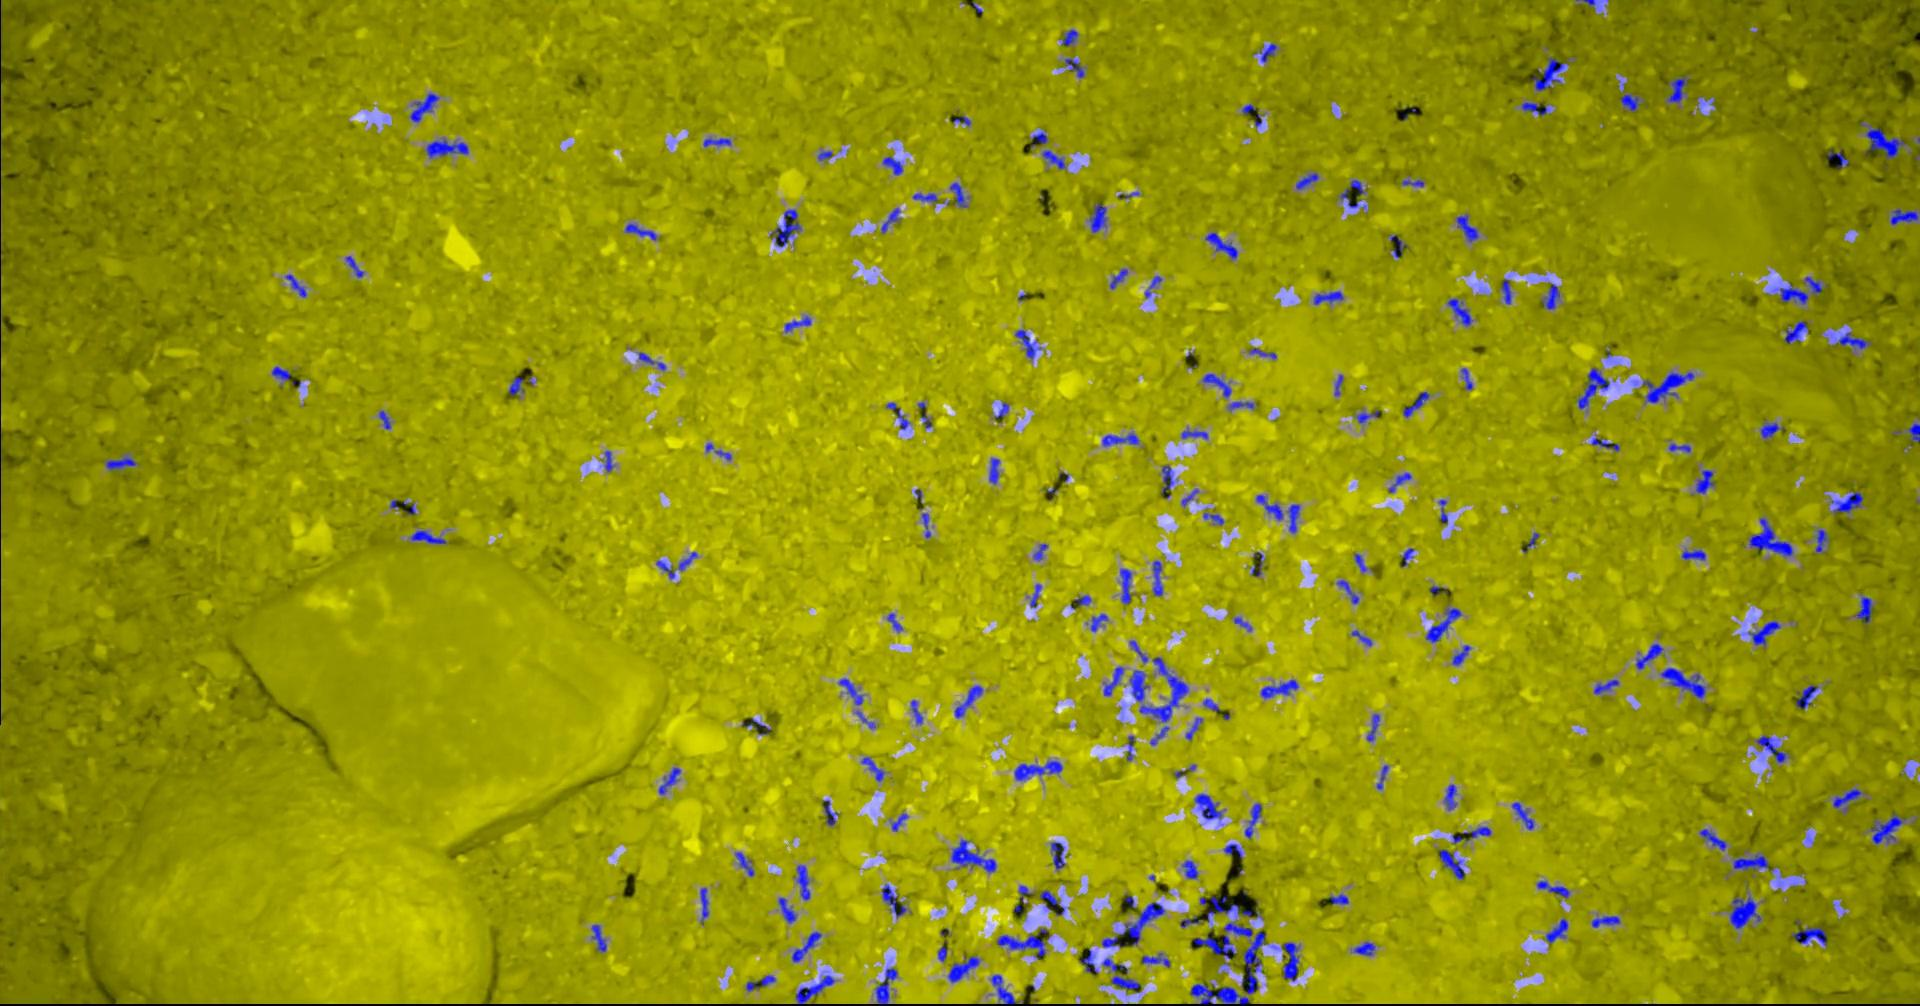ant: (1139, 655, 1189, 744), (1117, 902, 1164, 945), (1749, 517, 1792, 556), (1642, 371, 1694, 401), (997, 927, 1046, 959), (950, 840, 996, 873), (1660, 667, 1705, 699), (1199, 895, 1258, 920), (1102, 956, 1139, 992), (1577, 367, 1609, 408), (1425, 608, 1460, 641), (1865, 127, 1903, 158), (795, 976, 834, 1005), (1531, 57, 1566, 90), (770, 210, 800, 246), (1870, 812, 1905, 843), (1730, 895, 1760, 929), (1015, 760, 1062, 780), (791, 931, 822, 962), (954, 685, 982, 716), (947, 954, 979, 982), (1204, 232, 1237, 259), (410, 91, 438, 122), (1747, 620, 1780, 645), (425, 138, 469, 158), (875, 967, 897, 1005), (1437, 848, 1464, 879), (881, 884, 905, 917), (1756, 735, 1785, 762), (990, 974, 1016, 1005), (1194, 793, 1222, 819), (1015, 329, 1040, 358), (1636, 643, 1662, 669), (1338, 179, 1364, 207), (1255, 494, 1283, 520), (1831, 490, 1863, 512), (1402, 391, 1429, 417), (1260, 680, 1298, 697), (1790, 926, 1826, 945), (1203, 373, 1230, 398), (1775, 283, 1808, 304), (1448, 298, 1472, 325), (886, 401, 909, 429), (1832, 788, 1862, 809), (1281, 942, 1298, 981), (838, 678, 862, 704), (1039, 890, 1064, 915), (658, 767, 681, 794), (1129, 669, 1148, 701), (1511, 801, 1533, 829), (1244, 803, 1261, 838), (860, 757, 884, 781), (1783, 320, 1808, 343), (1699, 828, 1726, 850), (1103, 666, 1123, 695), (1537, 880, 1570, 897), (1667, 75, 1688, 102), (1457, 215, 1477, 241), (1836, 332, 1868, 348), (1733, 854, 1768, 869), (1796, 683, 1817, 708), (1545, 918, 1567, 942), (623, 224, 657, 239), (637, 352, 665, 370), (1102, 432, 1138, 446), (742, 716, 770, 734), (1336, 580, 1357, 603), (949, 182, 968, 207), (1090, 203, 1106, 232), (284, 274, 306, 296), (1041, 150, 1065, 169), (1695, 469, 1714, 493), (734, 852, 753, 876), (881, 207, 899, 232), (1542, 283, 1559, 309), (410, 530, 446, 542), (1119, 568, 1131, 603), (1890, 208, 1919, 224), (745, 976, 775, 991), (783, 315, 810, 332), (1855, 596, 1872, 622), (1388, 234, 1407, 257), (1388, 473, 1411, 492), (796, 865, 809, 899), (590, 923, 606, 951), (822, 800, 838, 826), (778, 897, 795, 922), (1255, 43, 1276, 62), (1451, 644, 1470, 666), (105, 456, 135, 470), (1140, 953, 1170, 967), (1295, 171, 1318, 189), (1804, 276, 1827, 293), (1760, 422, 1784, 438), (1185, 716, 1201, 741), (1591, 437, 1619, 451), (1064, 58, 1084, 77), (1109, 268, 1128, 288), (1313, 291, 1343, 304), (1086, 614, 1107, 631), (1129, 640, 1147, 662), (1079, 949, 1096, 972), (698, 887, 709, 923), (1050, 841, 1064, 868), (1161, 465, 1173, 494), (883, 156, 902, 175), (1827, 149, 1848, 166), (345, 257, 363, 277), (1152, 560, 1162, 596), (1144, 276, 1161, 297), (1521, 102, 1547, 116), (917, 401, 931, 427), (1592, 680, 1618, 694), (1366, 713, 1379, 741), (1591, 915, 1619, 927), (678, 551, 696, 570), (655, 560, 674, 578), (1354, 409, 1379, 422), (1444, 784, 1457, 809), (1288, 504, 1299, 532), (1462, 826, 1490, 837), (1352, 941, 1375, 955), (1619, 94, 1638, 111), (1351, 630, 1371, 645), (1181, 860, 1197, 878), (1500, 278, 1511, 304), (508, 376, 523, 395), (1815, 528, 1827, 551), (1248, 348, 1276, 358), (994, 401, 1008, 422), (988, 459, 999, 483), (1251, 551, 1262, 575), (910, 700, 922, 724), (1377, 765, 1388, 789), (1101, 935, 1123, 948), (1181, 429, 1208, 439), (1032, 542, 1048, 560), (886, 614, 902, 631), (1233, 616, 1251, 631), (891, 813, 907, 831), (1070, 594, 1090, 608), (1030, 584, 1041, 607), (1203, 512, 1223, 525), (1031, 131, 1048, 146), (702, 137, 730, 146), (1223, 843, 1241, 857), (1437, 499, 1448, 523), (1681, 549, 1705, 559), (270, 366, 290, 379), (1401, 547, 1413, 567), (1354, 553, 1366, 572), (1180, 915, 1199, 927), (1062, 29, 1077, 44), (1460, 368, 1472, 389), (1907, 422, 1919, 442), (912, 192, 937, 201), (921, 513, 930, 539), (937, 940, 947, 962), (378, 410, 390, 429), (1203, 699, 1219, 711), (1330, 894, 1349, 904), (604, 450, 613, 471), (1229, 401, 1253, 409), (1126, 735, 1134, 760), (1669, 443, 1690, 451), (817, 150, 832, 160), (1401, 179, 1423, 185), (0, 8, 1, 60)
